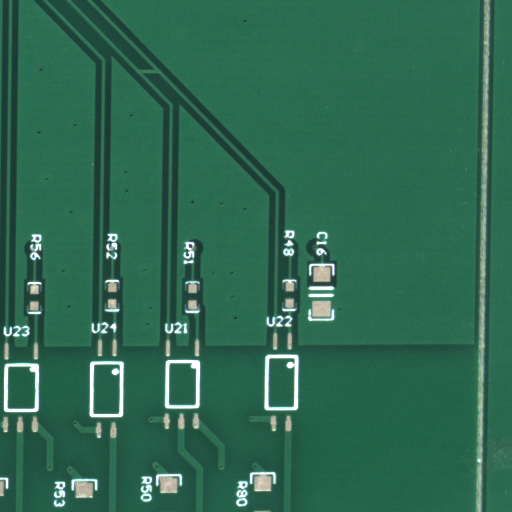Short: (149, 71, 172, 80)
